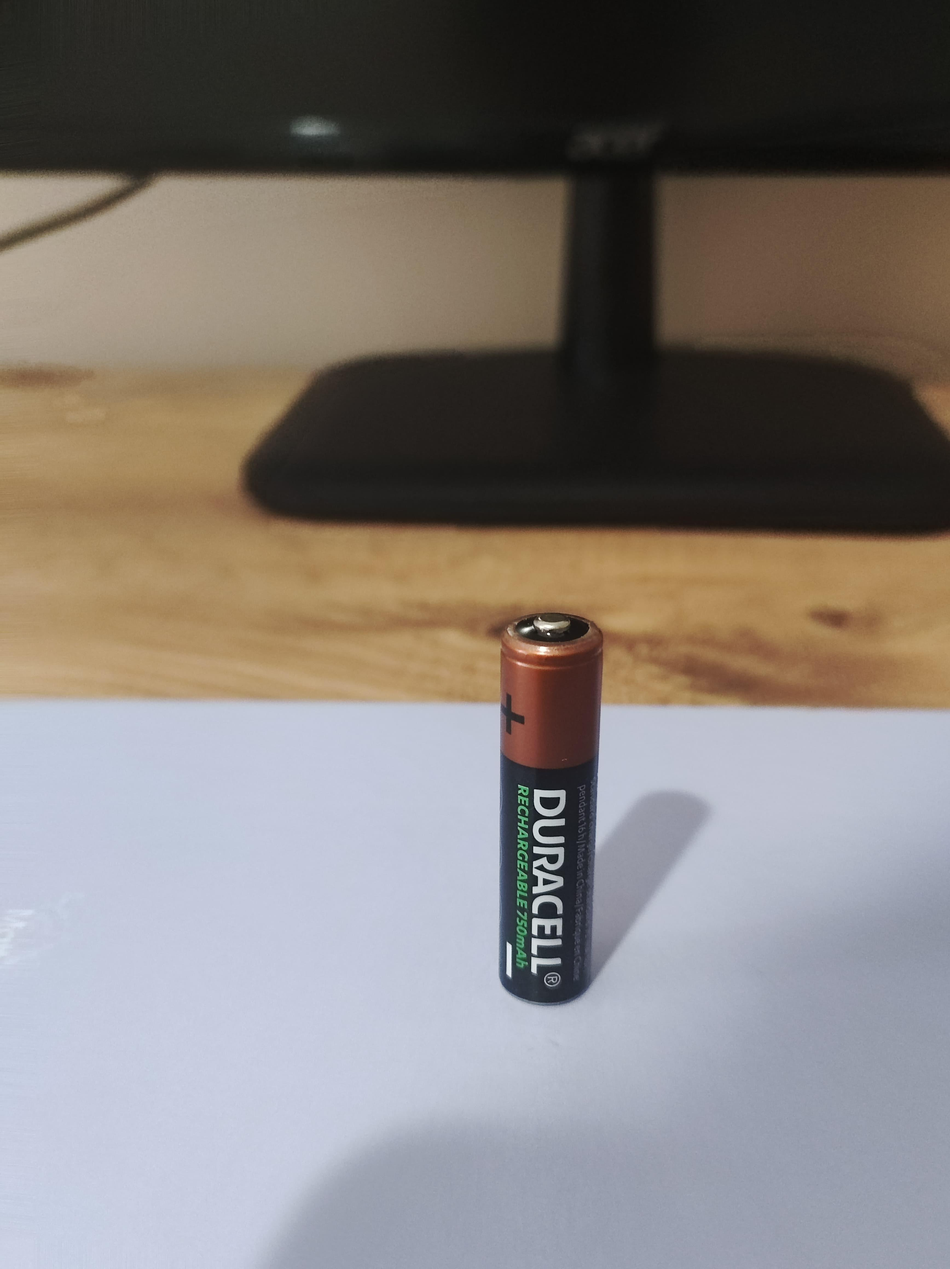AA: (496, 610, 604, 1004)
